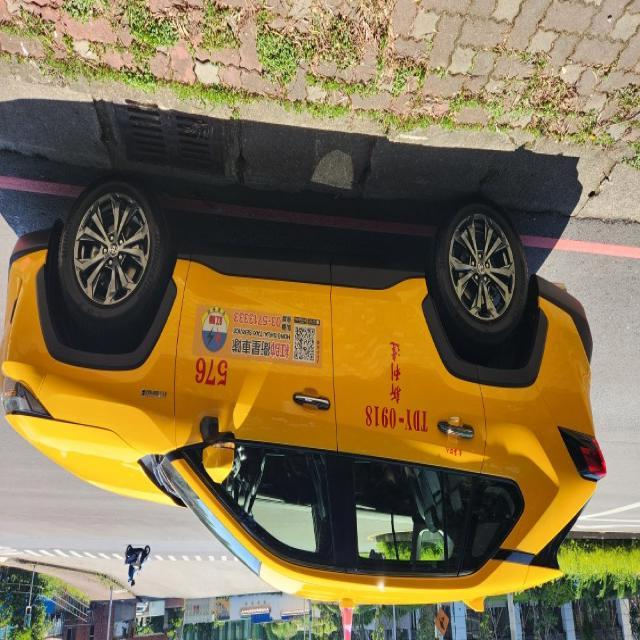taxi: (1, 159, 609, 640)
